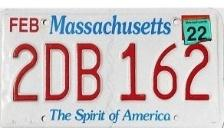1: (120, 40, 148, 102)
2: (183, 39, 213, 102), (12, 42, 42, 101)
6: (152, 39, 180, 101)
B: (76, 41, 104, 102)
D: (44, 42, 73, 102)
